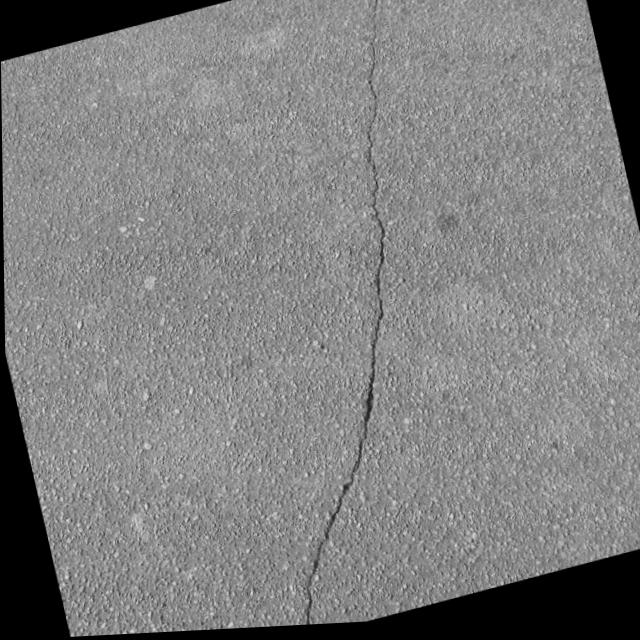Crack: (144, 0, 531, 634)
